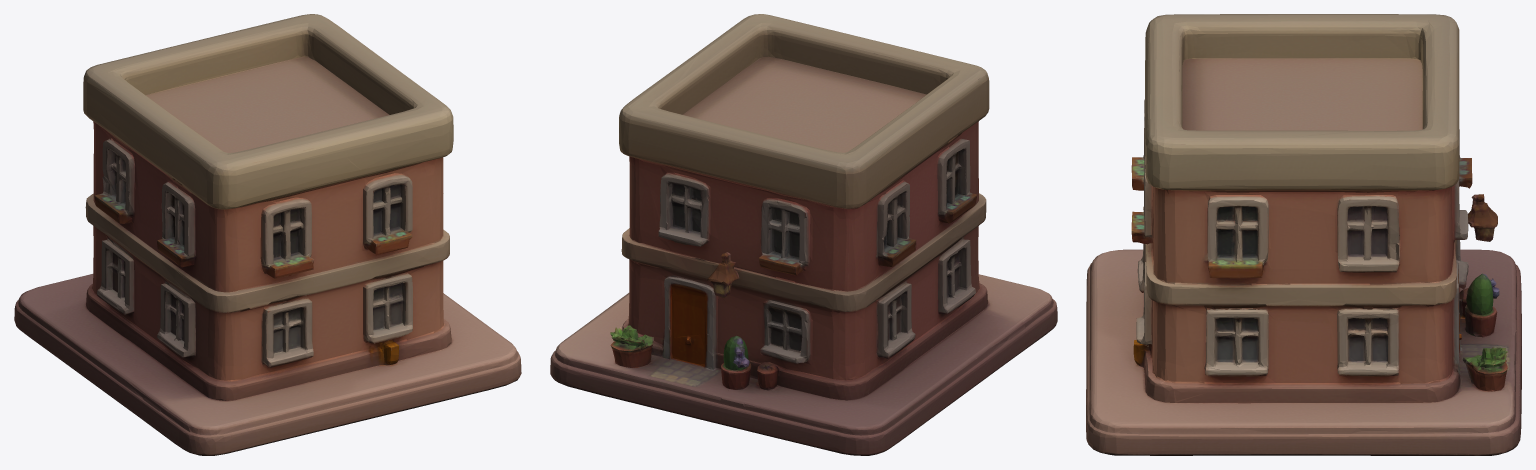
File: relleno_esquina_melocoton.glb
3 views of the same model, side by side, from view 1: azimuth 30°, elevation 25°; view 2: azimuth 150°, elevation 25°; view 3: azimuth 270°, elevation 25° (orthographic). The views are drawn at different scales.
Visible parts, largest first — view 1: world; view 2: world; view 3: world.
Part boxes in pixels (left/top/right/bottom): world: left=14, top=14, right=521, bottom=455; world: left=550, top=14, right=1057, bottom=455; world: left=1086, top=14, right=1521, bottom=455.
Bounding box in the file's own units: 0.5683 × 0.4247 × 0.5778.
Materials: 1 (1 with a texture image).
